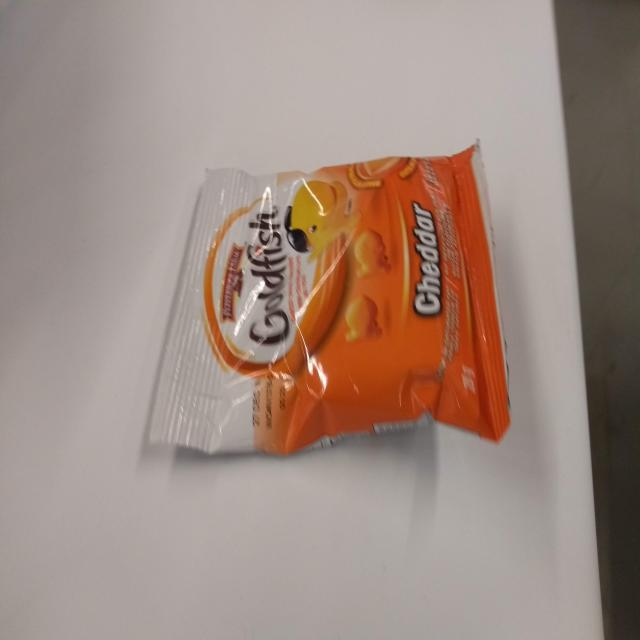crackers: (140, 132, 518, 478)
